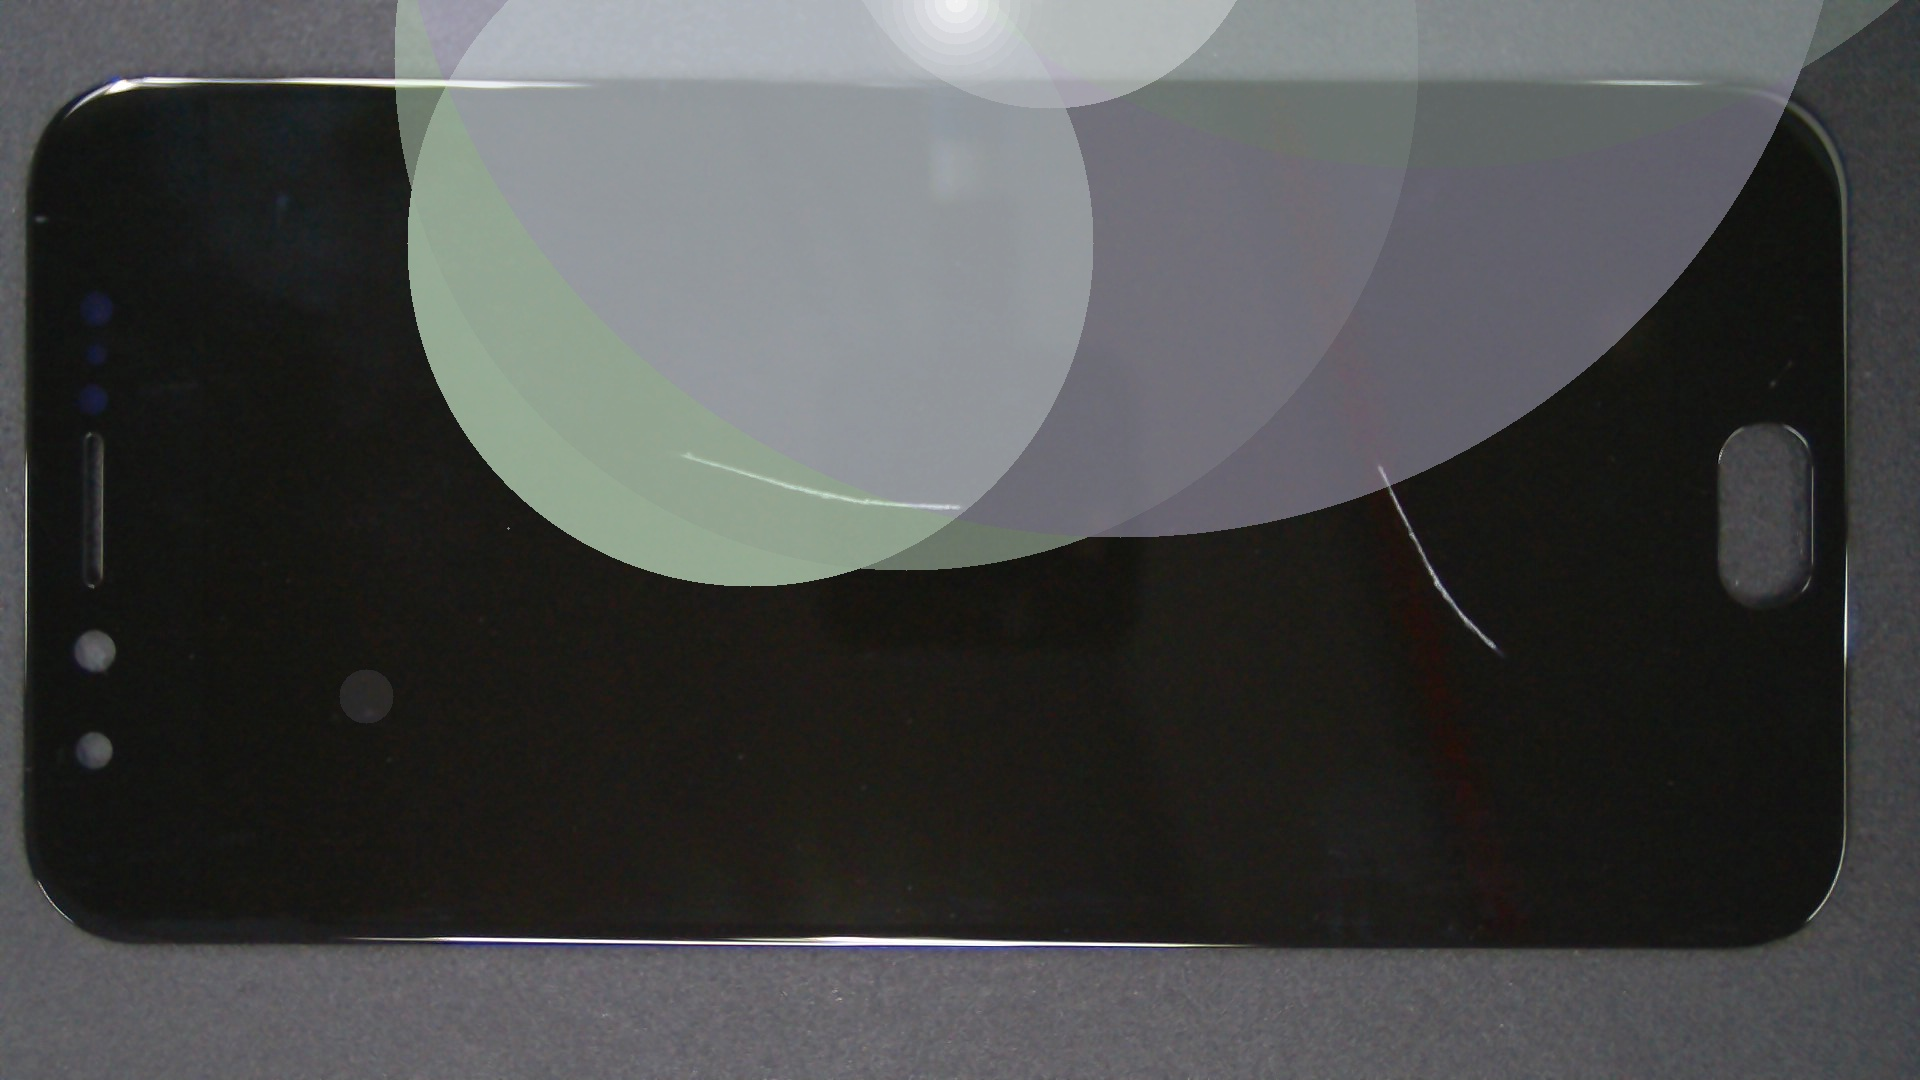oil: (691, 231, 1920, 698), (344, 225, 1030, 679)
